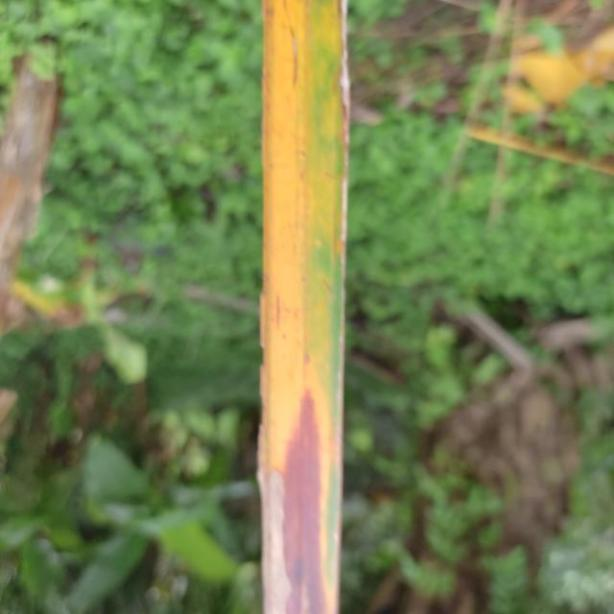Megnesium: (257, 0, 355, 614)
